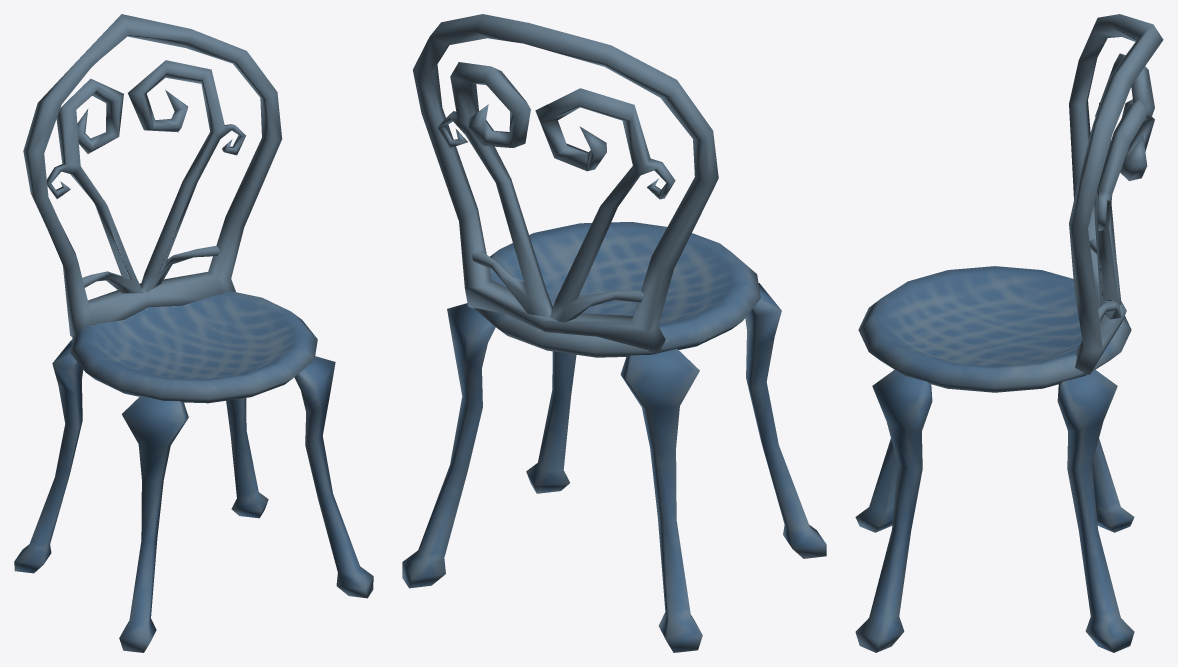
File: ParisChair.glb
3 views of the same model, side by side, from view 1: azimuth 30°, elevation 25°; view 2: azimuth 150°, elevation 25°; view 3: azimuth 270°, elevation 25° (orthographic). The views are drawn at different scales.
Parts seen in each view (by area): view 1: Chair; view 2: Chair; view 3: Chair.
Part boxes in pixels (box(x1,y1,x2,y2)): Chair: box(14, 14, 373, 652); Chair: box(402, 14, 826, 652); Chair: box(855, 14, 1163, 652).
Bounding box in the file's own units: 0.6864 × 1.32 × 0.6581.
1 material, 1 textured.
